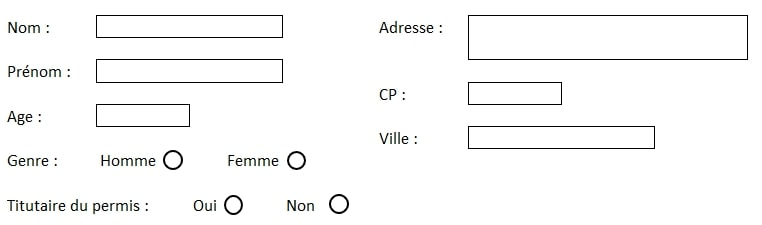input: (457, 7, 751, 66), (459, 121, 665, 159), (89, 7, 291, 45), (91, 54, 287, 89), (459, 75, 570, 107), (92, 100, 196, 134)
text: (2, 191, 156, 223), (375, 4, 445, 47), (1, 54, 75, 91), (3, 8, 60, 45), (2, 148, 68, 178), (366, 121, 426, 152), (93, 147, 159, 175), (223, 146, 283, 176), (372, 79, 420, 111), (2, 103, 51, 130), (279, 193, 319, 218), (186, 189, 220, 218)
